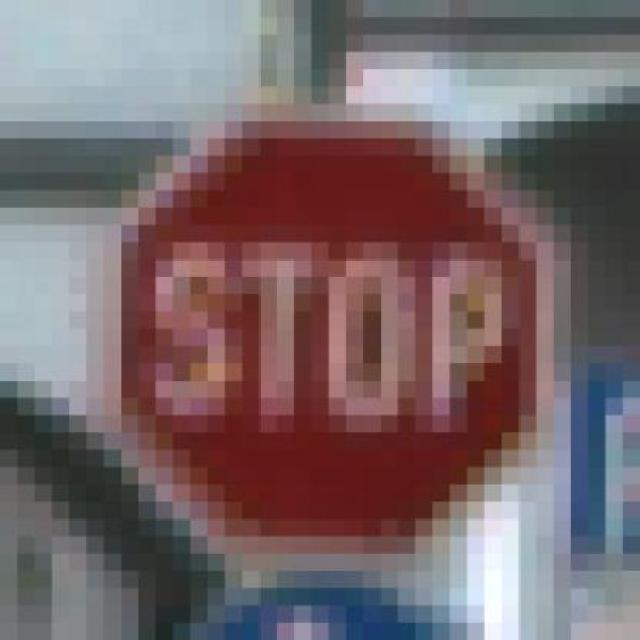Stop_Sign: (69, 86, 554, 571)
